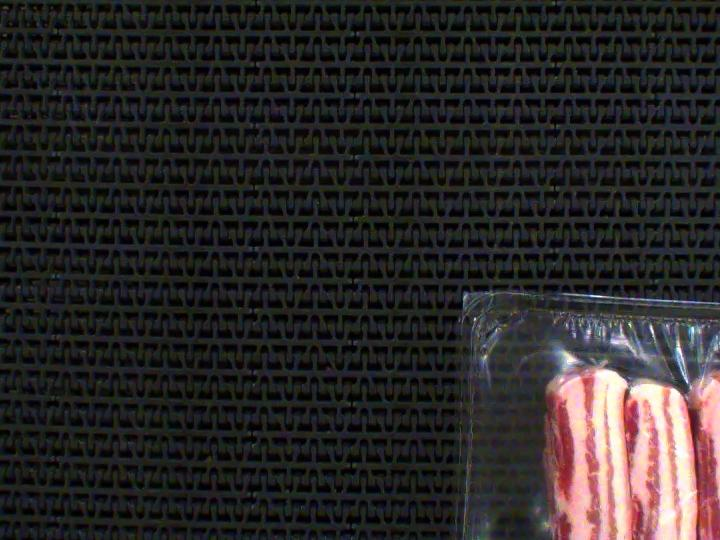unsealed: (470, 298, 720, 540)
